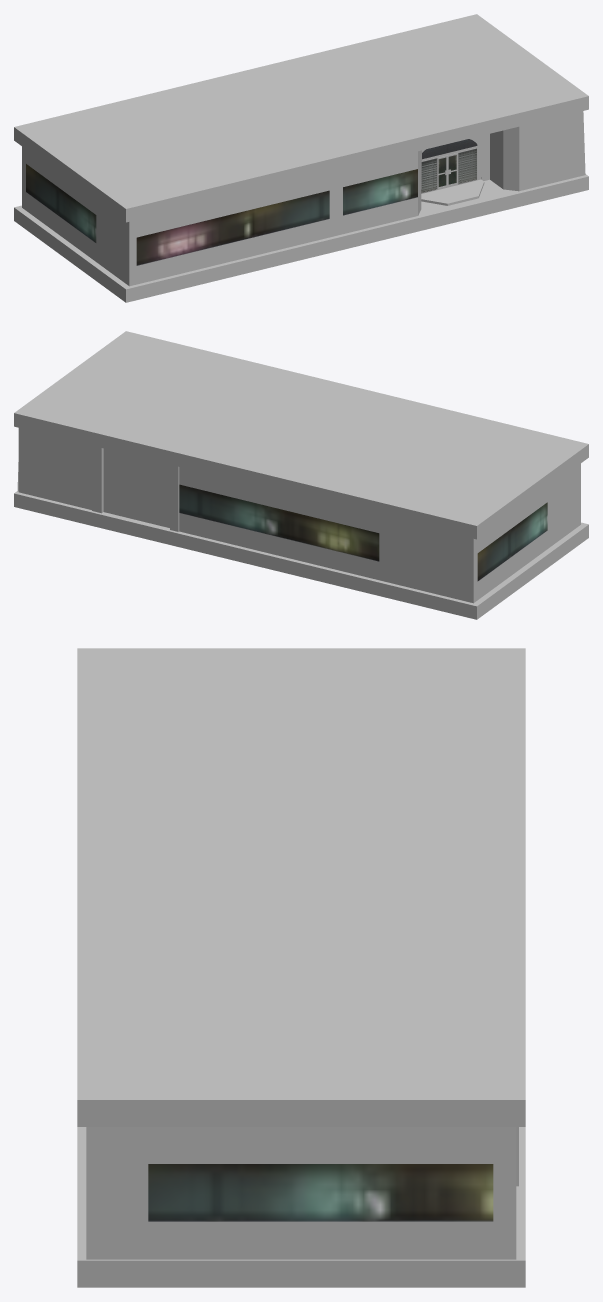
File: hirise_ent04a.fbx
The picture shows the model from 3 angles, top to bottom: view 1: azimuth 30°, elevation 25°; view 2: azimuth 150°, elevation 25°; view 3: azimuth 270°, elevation 25°; orthographic projection. The views are drawn at different scales.
Parts seen in each view (by area): view 1: hirise_ent04a; view 2: hirise_ent04a; view 3: hirise_ent04a.
Part boxes in pixels (x1,y1,x2,y2): hirise_ent04a: (14,14,588,302); hirise_ent04a: (14,331,588,619); hirise_ent04a: (77,648,525,1287).
Bounding box in the file's own units: 31.64 × 6.13 × 13.26.
